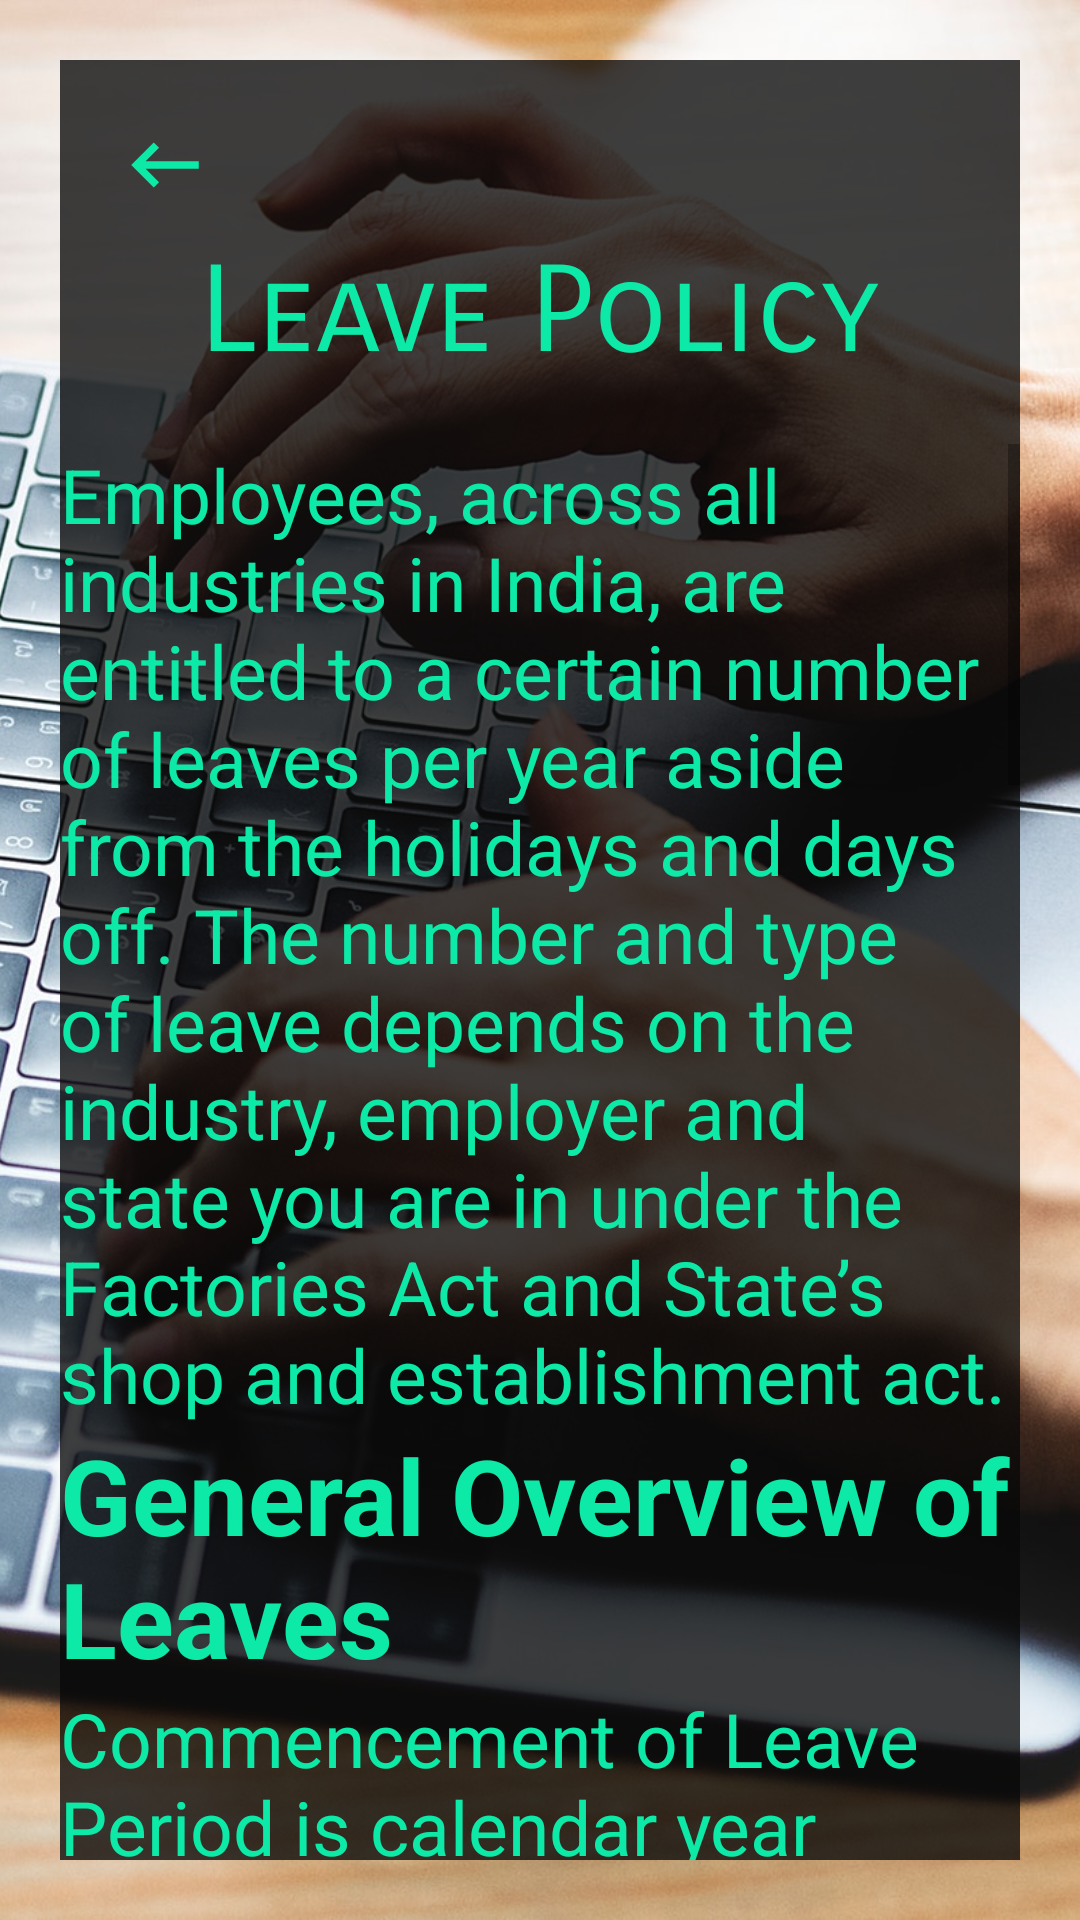

Locate icon controls on the screen. Image size 1080px×1920px, boxes as (x1=x1, y1=y1, x2=x2, y2=y2).
back: (x1=131, y1=142, x2=199, y2=188)
